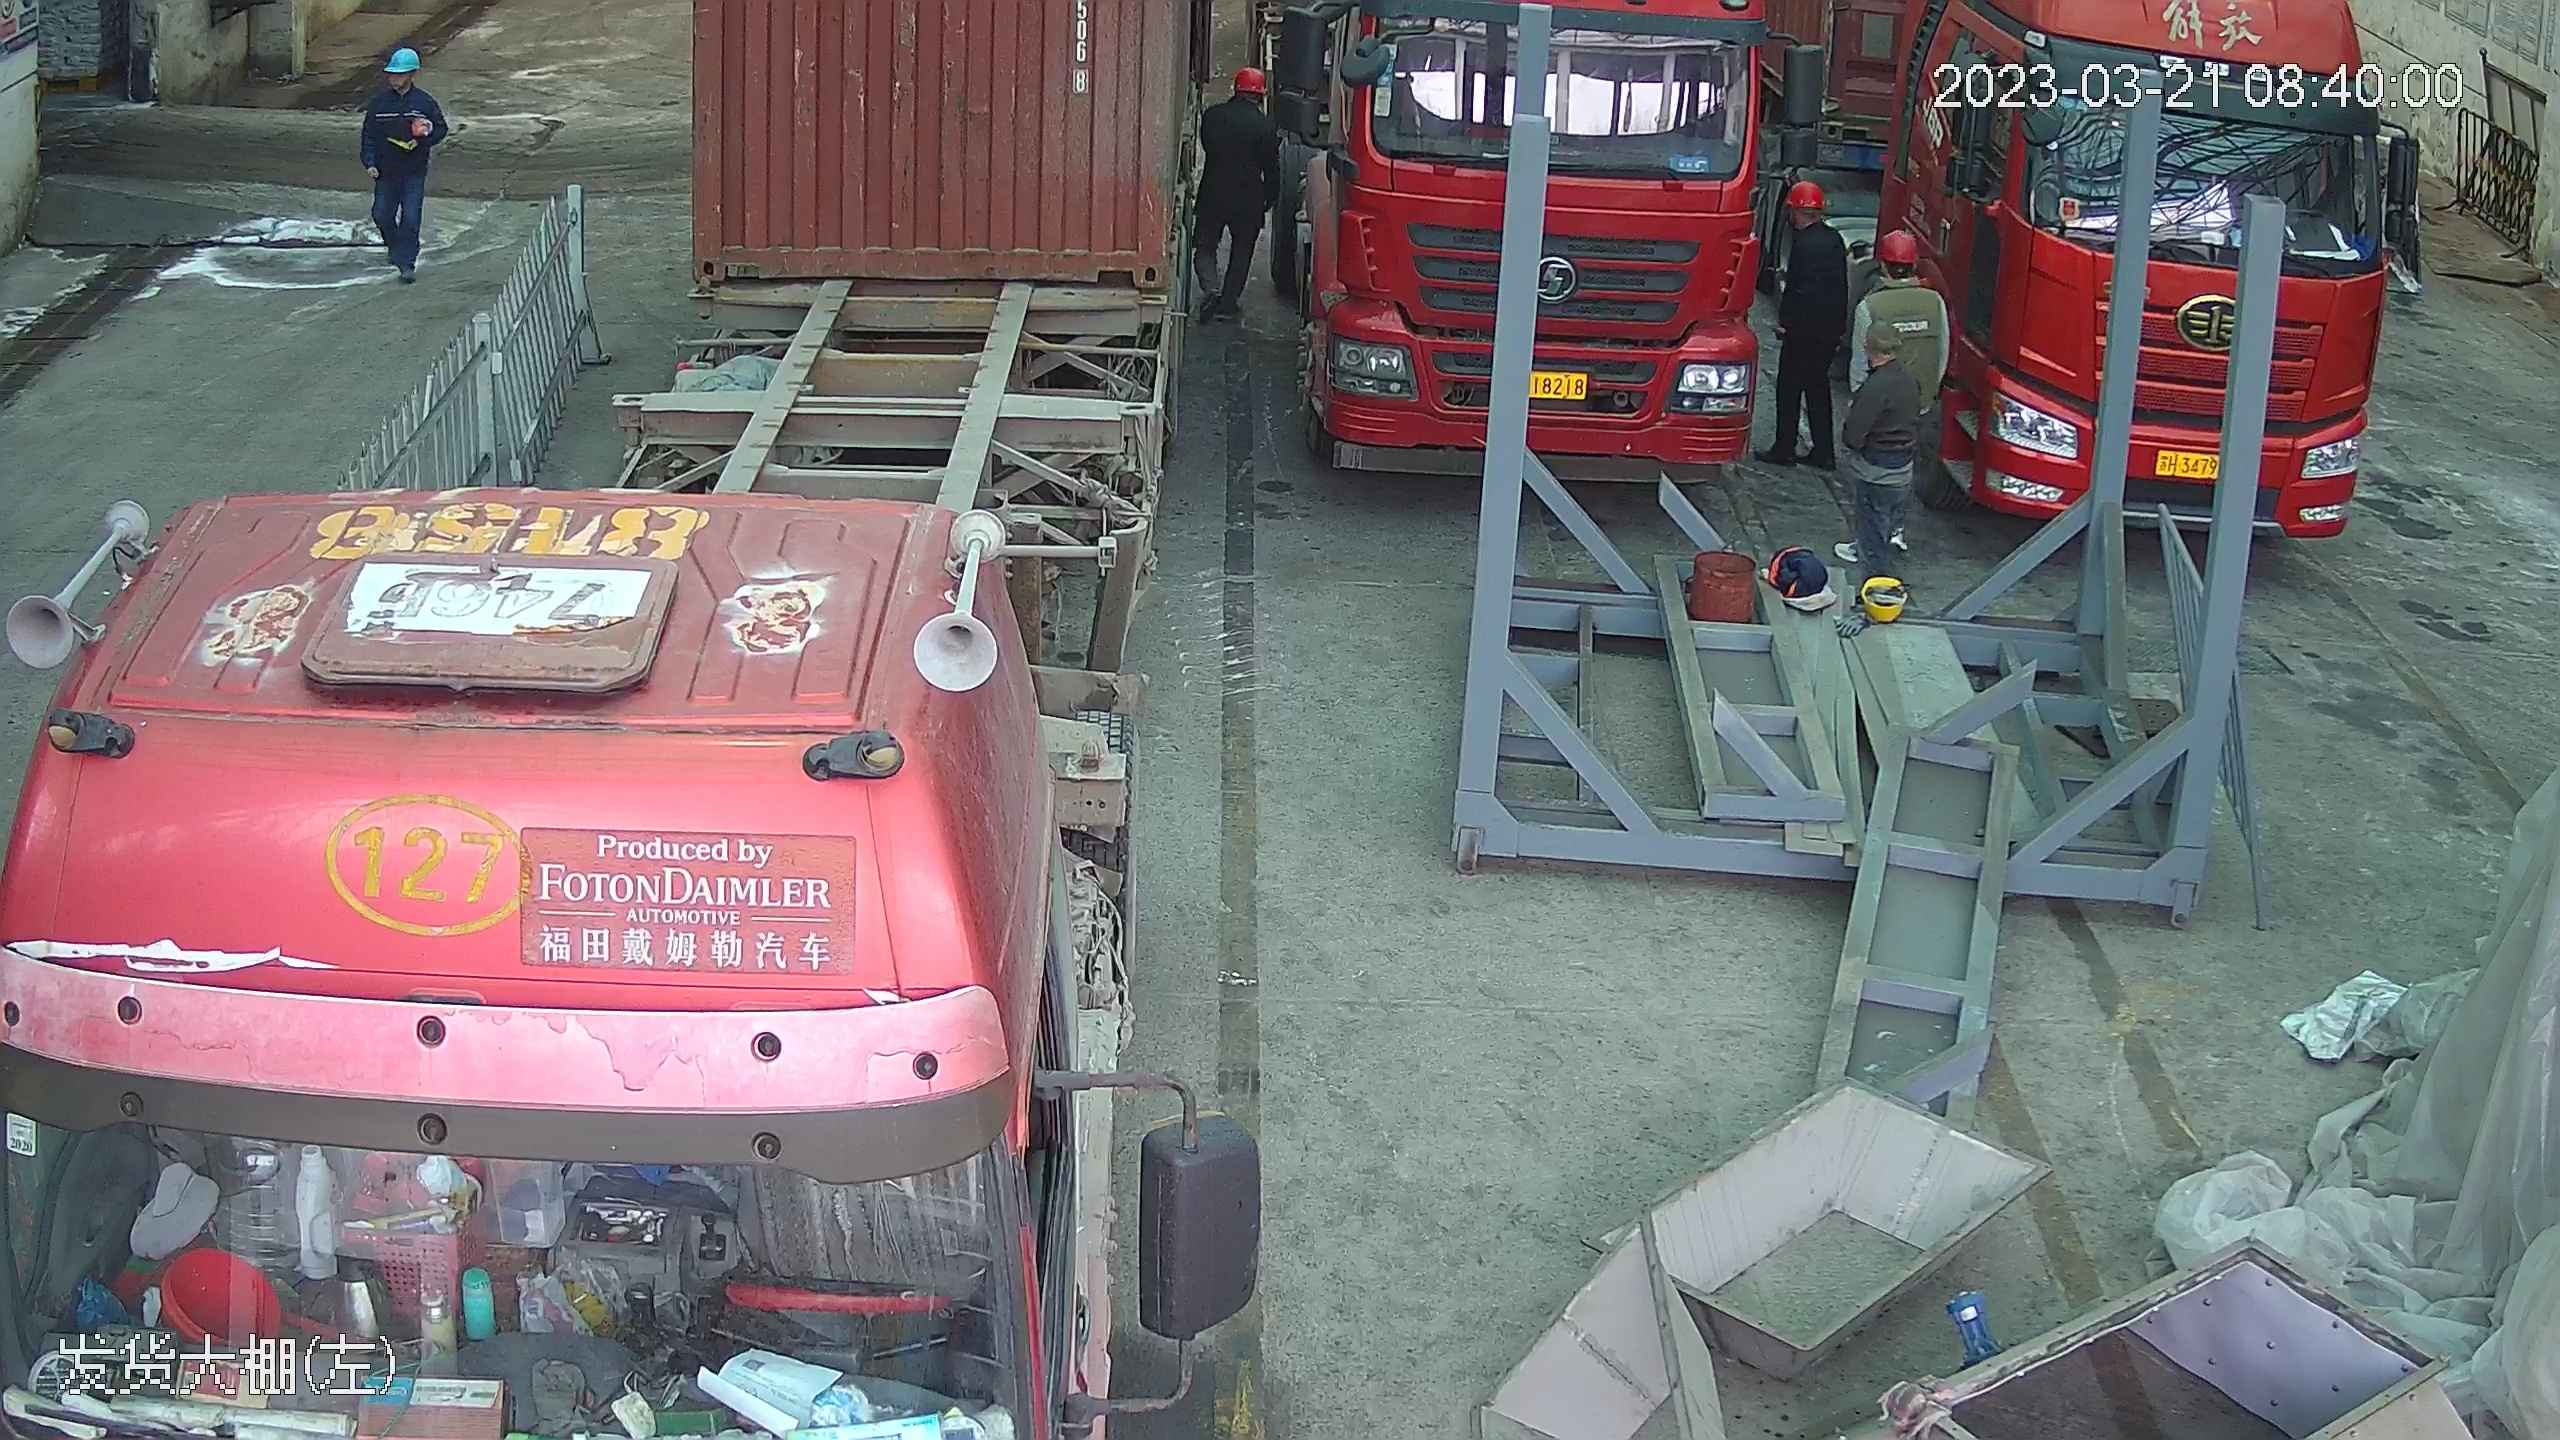head: (1863, 223, 1947, 333), (1849, 319, 1924, 423), (1776, 175, 1850, 269), (362, 43, 439, 120), (1206, 63, 1277, 141)
helmet: (1876, 227, 1918, 264), (1786, 176, 1827, 210), (383, 41, 424, 72), (1228, 62, 1263, 88)
people: (1764, 174, 1858, 469), (353, 37, 449, 287), (1192, 58, 1281, 322), (1844, 315, 1922, 587)
truck: (1, 1, 1171, 1440), (1822, 5, 2428, 540), (1265, 1, 1794, 474)
